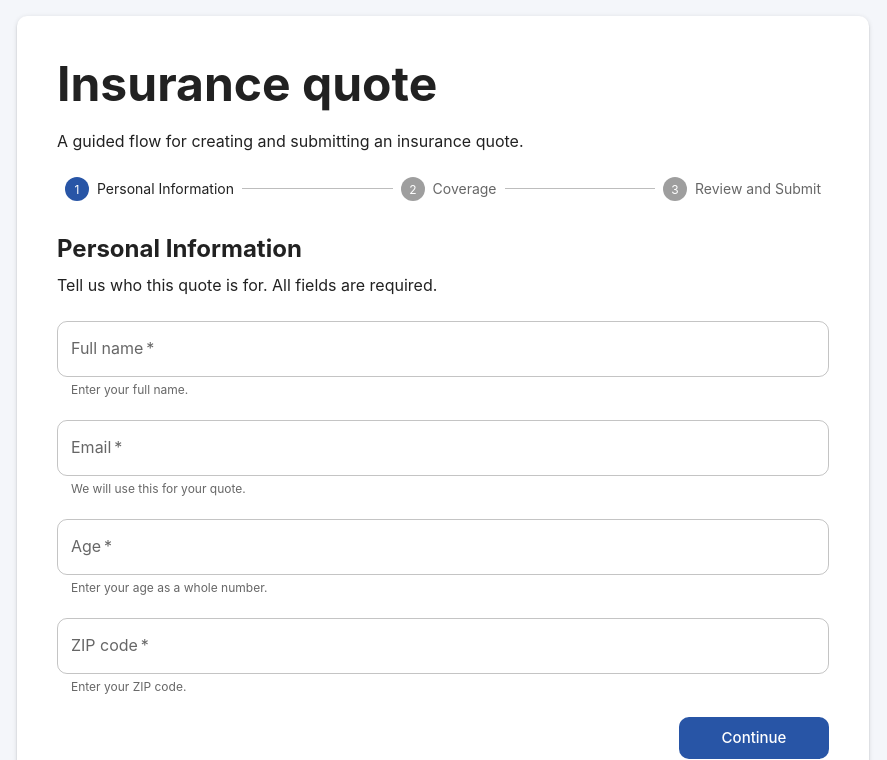
Test: Quote wizard create flow › sends the exact normalized request once and renders the Coverage form on success
Type "  Ada Lovelace  " into the field labelled "Full name *" at [443, 349], box x1=57 y1=321 x2=829 y2=377
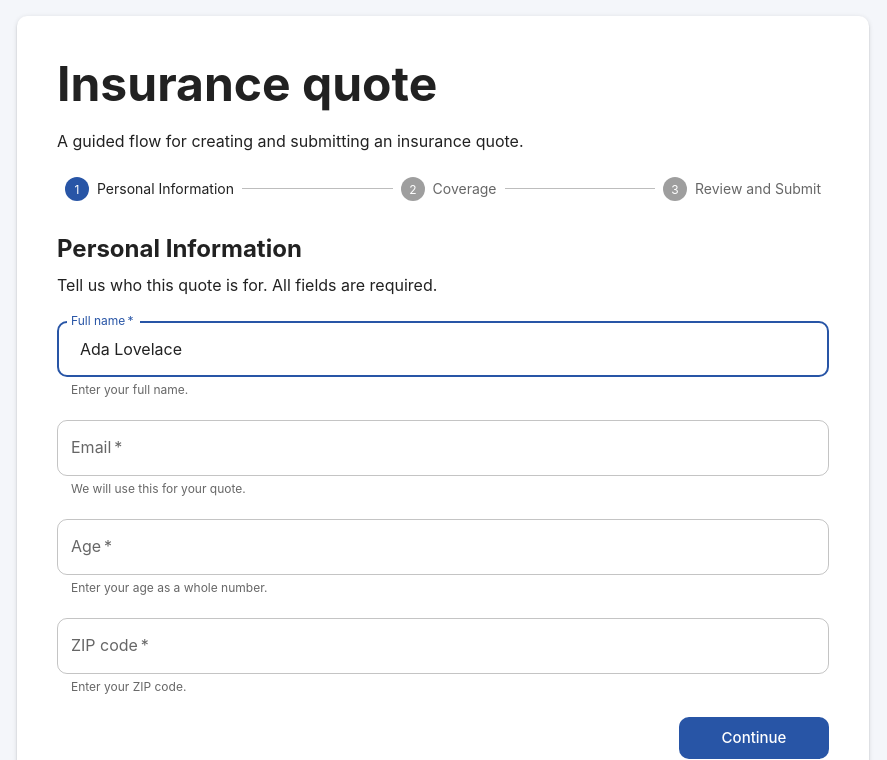
Type "  ada@example.invalid  " into the field labelled "Email *" at [443, 448], box x1=57 y1=420 x2=829 y2=476
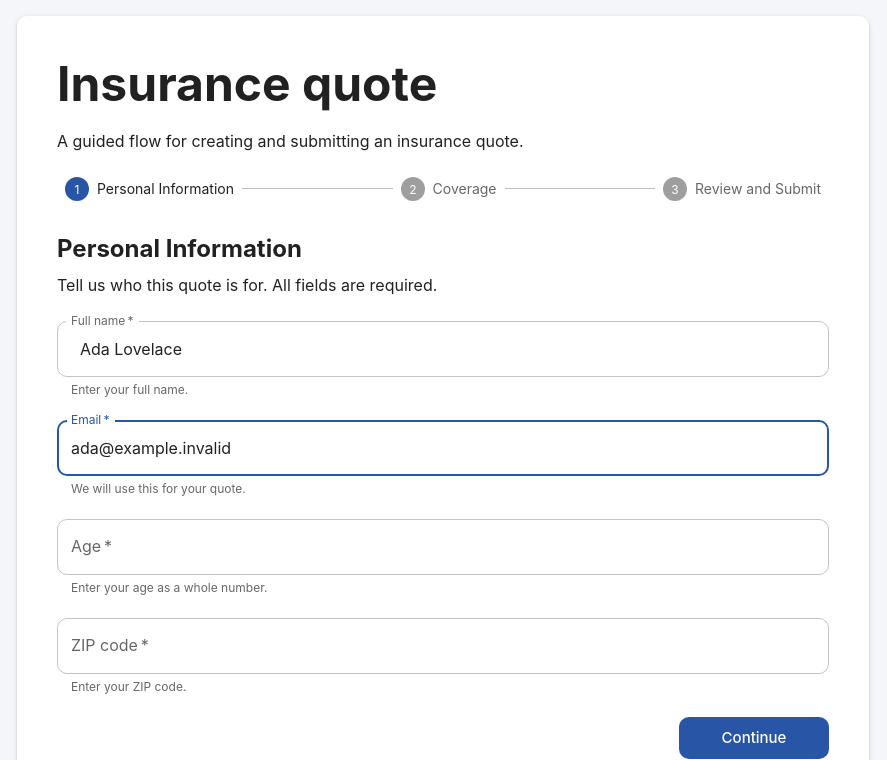
Type "65" into the number field labelled "Age *" at [443, 547], box x1=57 y1=519 x2=829 y2=575
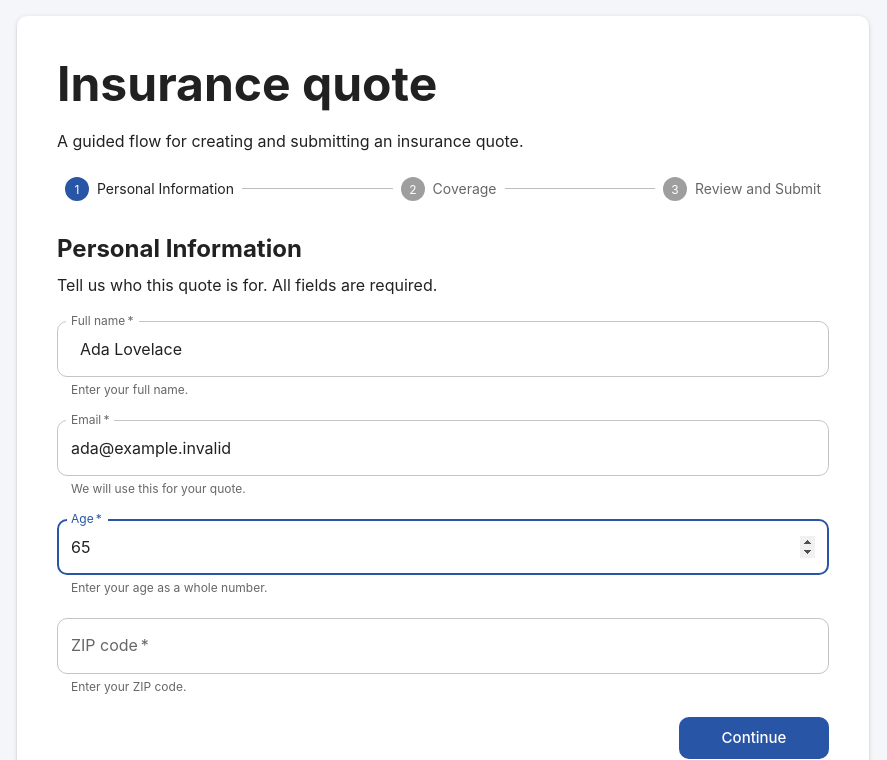
Type "  00123  " into the field labelled "ZIP code *" at [443, 646], box x1=57 y1=618 x2=829 y2=674
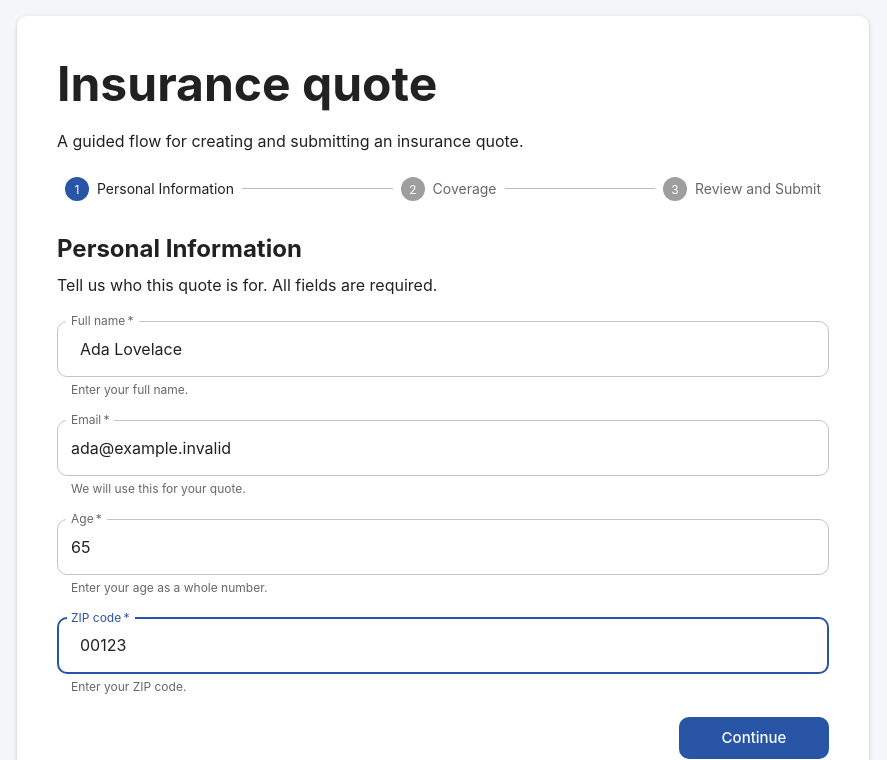
Click the button "Continue" at [754, 738], box x1=679 y1=717 x2=829 y2=759
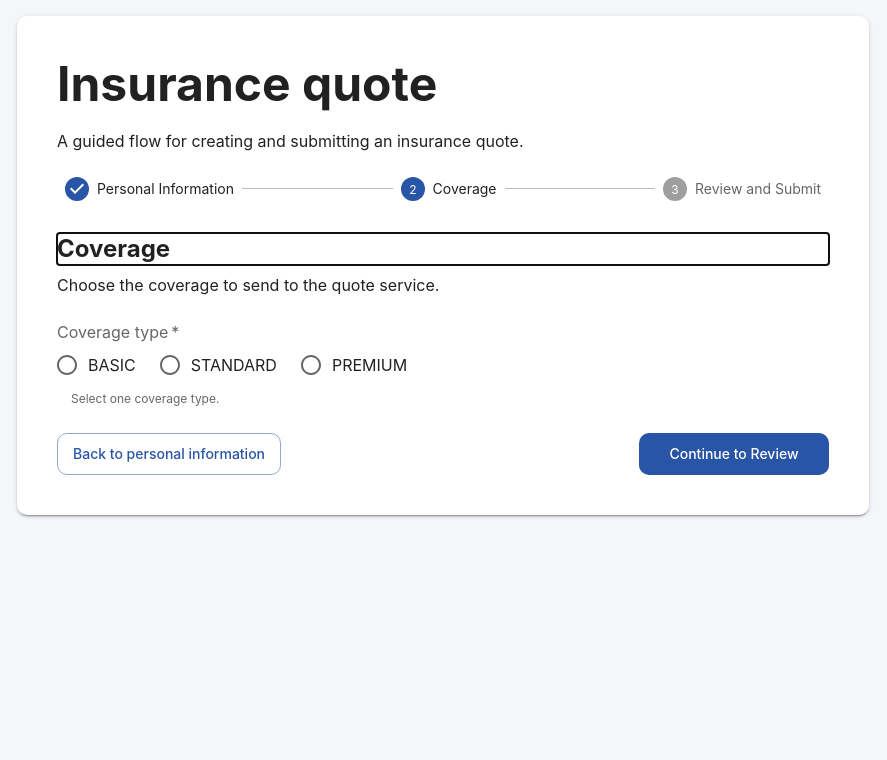
Check: the heading "Coverage" is shown, box x1=57 y1=234 x2=170 y2=263
Check: the element named "Coverage type" is shown, box x1=55 y1=353 x2=407 y2=377
